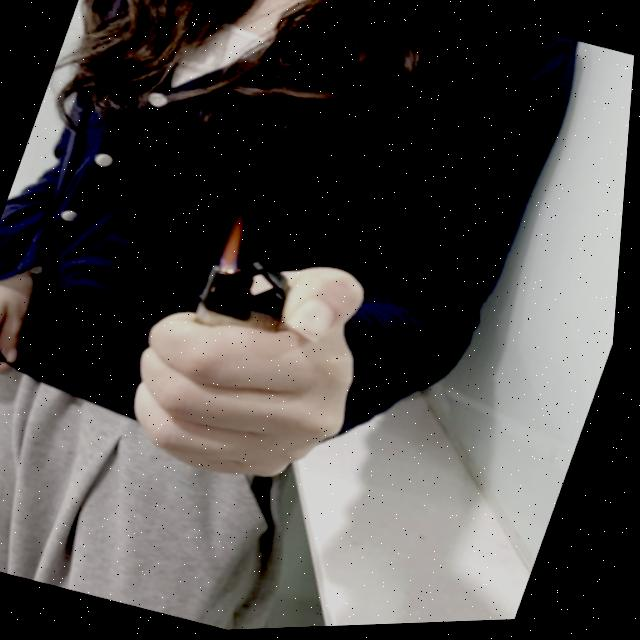Fire: (217, 209, 256, 273)
